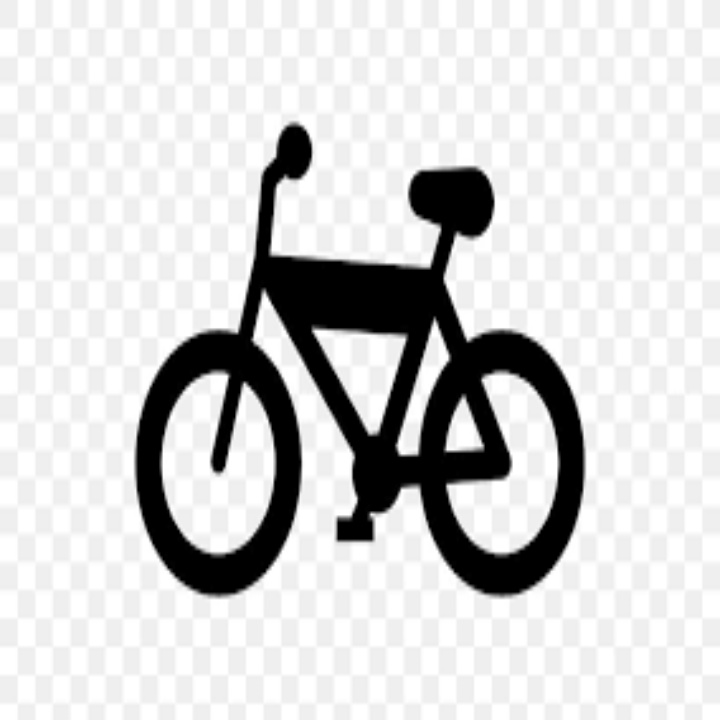bicycle: (133, 121, 587, 597)
